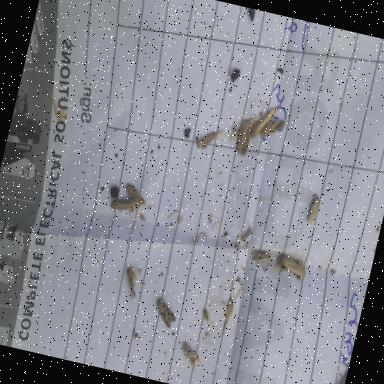pbw: (249, 100, 280, 143), (120, 183, 151, 221), (232, 110, 256, 156), (176, 340, 206, 372), (276, 252, 310, 280), (152, 298, 180, 330), (195, 125, 224, 153), (258, 114, 286, 141), (121, 266, 142, 299), (110, 193, 140, 215), (307, 194, 321, 224), (249, 248, 272, 266)
